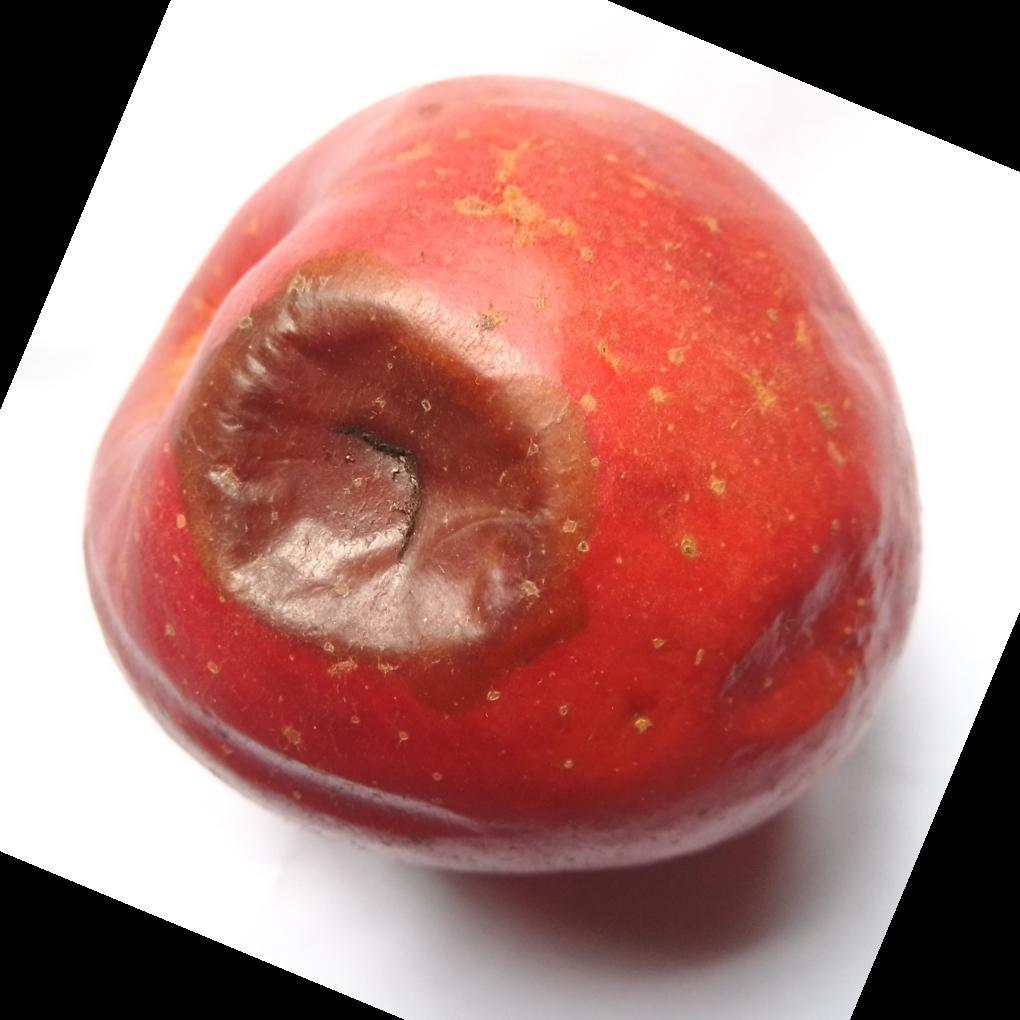FreshOrange: (8, 71, 926, 884)
